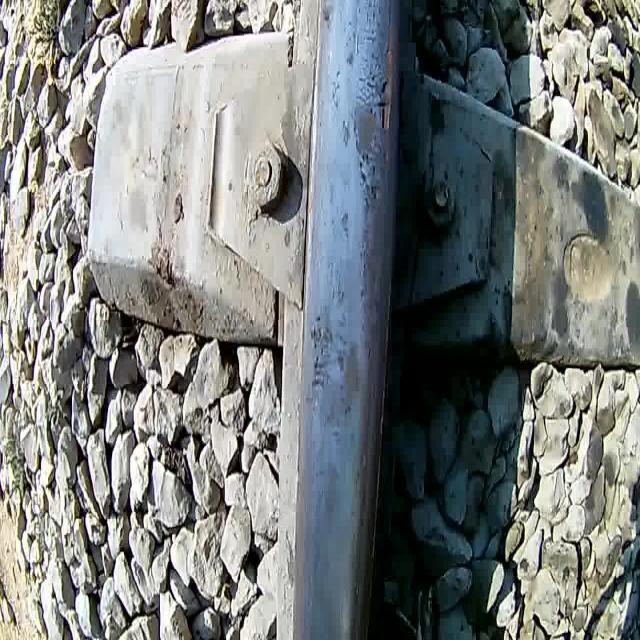Spallings: (377, 37, 394, 139)
Squats: (316, 329, 366, 437), (339, 99, 378, 165), (308, 310, 336, 395), (355, 148, 385, 213), (337, 201, 353, 248)
